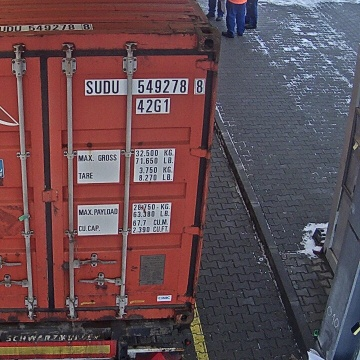serial_id: (86, 80, 203, 94)
